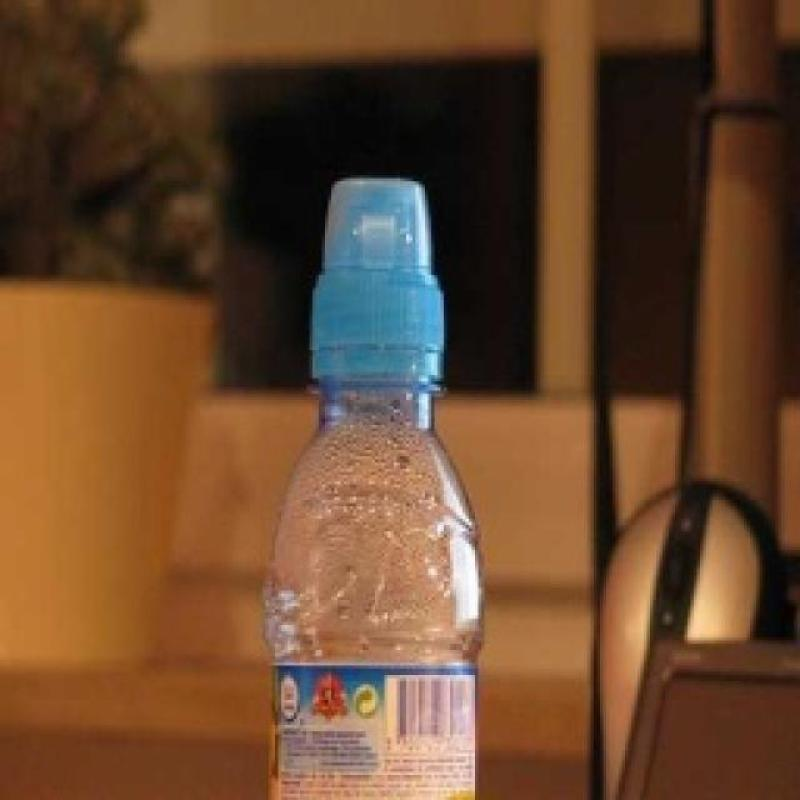botella: (259, 177, 484, 800)
